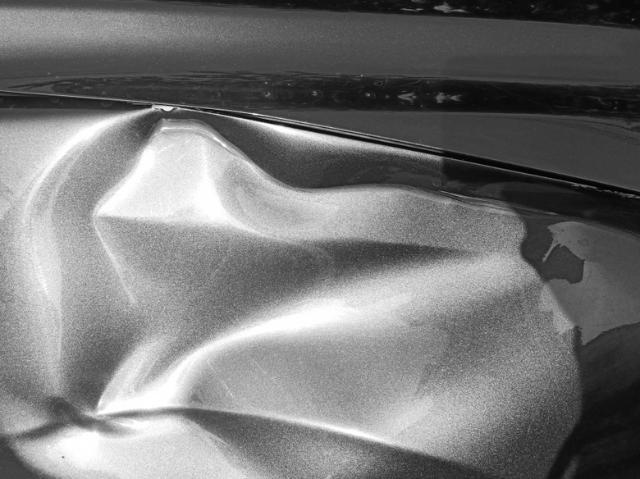Fender: (0, 3, 640, 479)
